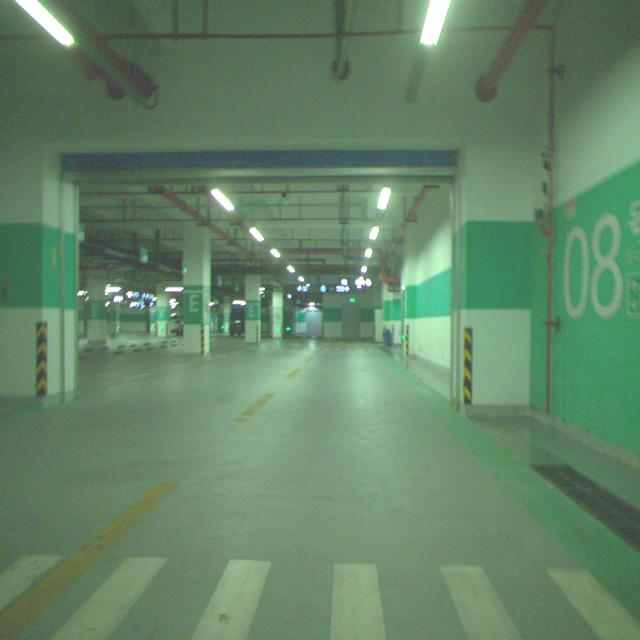pillar: (184, 225, 211, 353)
